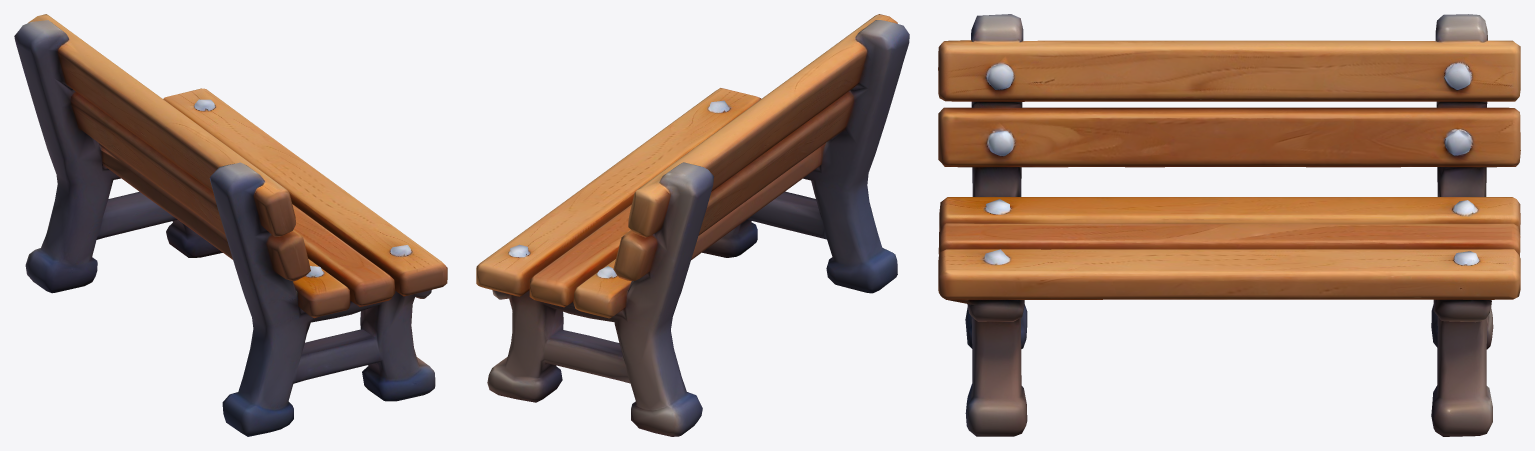
File: bench.fbx
The picture shows the model from 3 angles, left to right: view 1: azimuth 30°, elevation 25°; view 2: azimuth 150°, elevation 25°; view 3: azimuth 270°, elevation 25°; orthographic projection. The views are drawn at different scales.
Visible parts, largest first — view 1: tripo_node_b1e4514d; view 2: tripo_node_b1e4514d; view 3: tripo_node_b1e4514d.
Boxes of the visible parts, left/top/right/bottom form: tripo_node_b1e4514d: left=14, top=14, right=447, bottom=436; tripo_node_b1e4514d: left=476, top=14, right=909, bottom=436; tripo_node_b1e4514d: left=938, top=14, right=1520, bottom=436.
Bounding box in the file's own units: 0.4937 × 0.593 × 0.9999.
